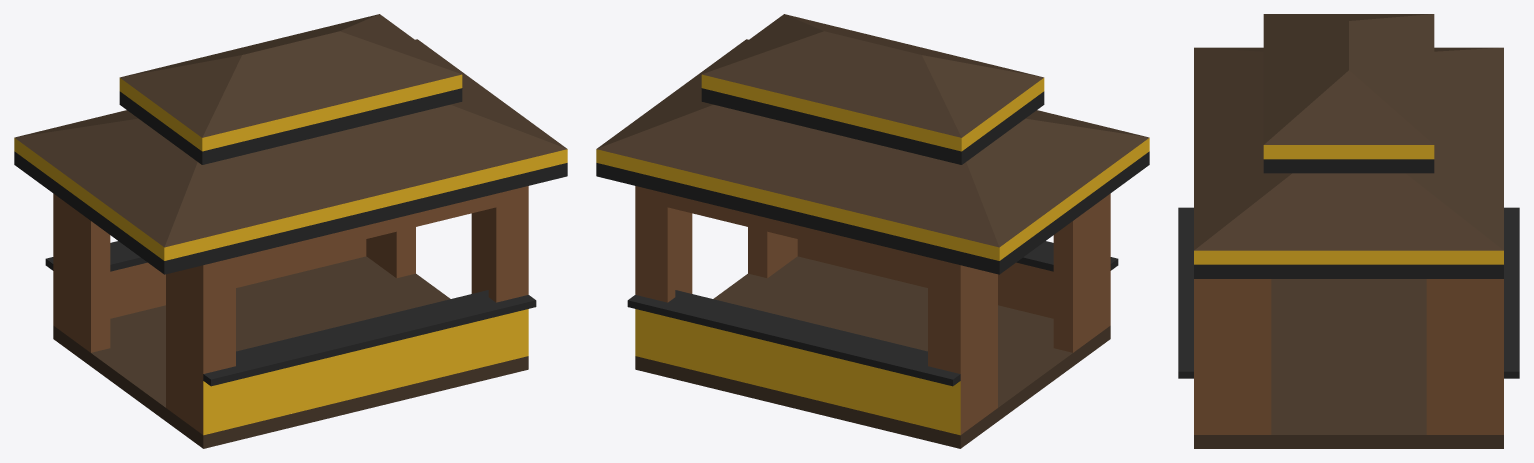
The model's file is buildings-bar-tropic.glb.
The picture shows the model from 3 angles, left to right: view 1: azimuth 30°, elevation 25°; view 2: azimuth 150°, elevation 25°; view 3: azimuth 270°, elevation 25°; orthographic projection. The views are drawn at different scales.
Visible parts, largest first — view 1: bar-tropic; view 2: bar-tropic; view 3: bar-tropic.
Boxes of the visible parts, box(x1,y1,x2,y2) form: bar-tropic: box(14, 14, 567, 448); bar-tropic: box(596, 14, 1149, 448); bar-tropic: box(1178, 14, 1519, 448).
Bounding box in the file's own units: 6.2 × 4.57 × 4.4.
